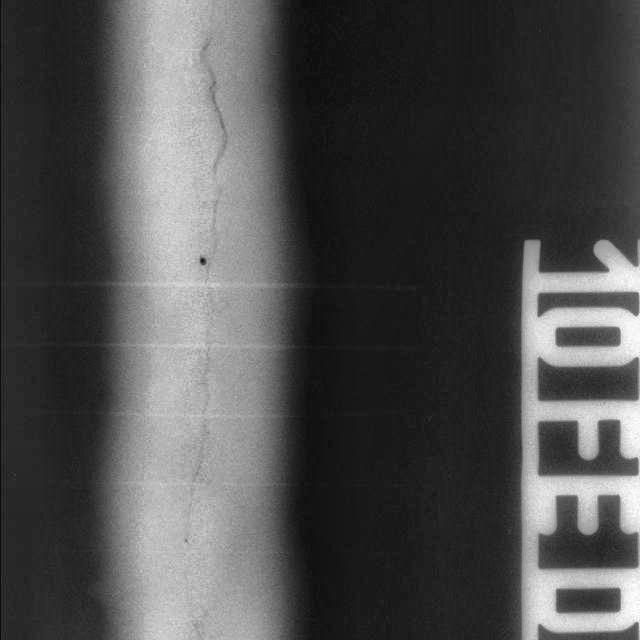Crack: (179, 18, 239, 636)
Pore: (196, 248, 208, 274)
